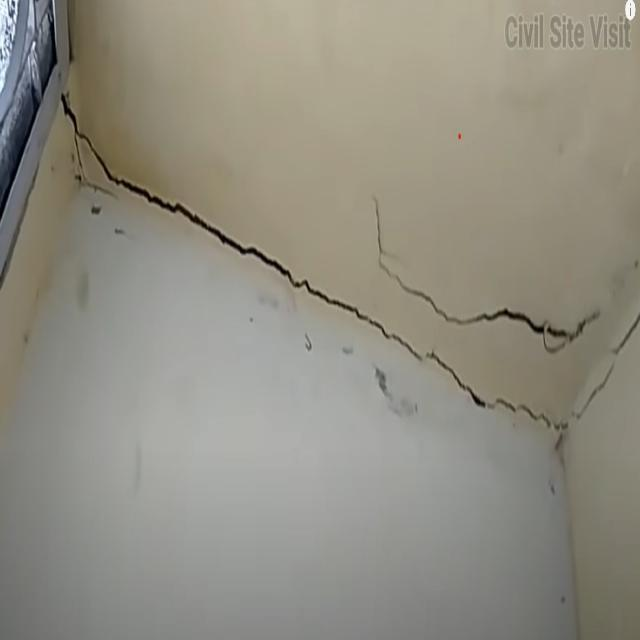Wall_Cracks: (54, 67, 640, 509)
